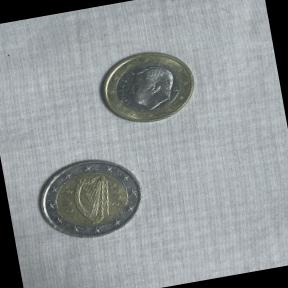coin: (27, 146, 152, 251), (91, 40, 204, 132)
